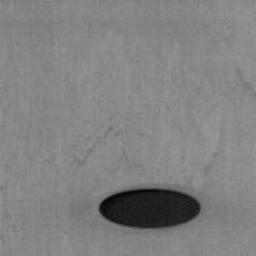Punching: (100, 188, 200, 228)
